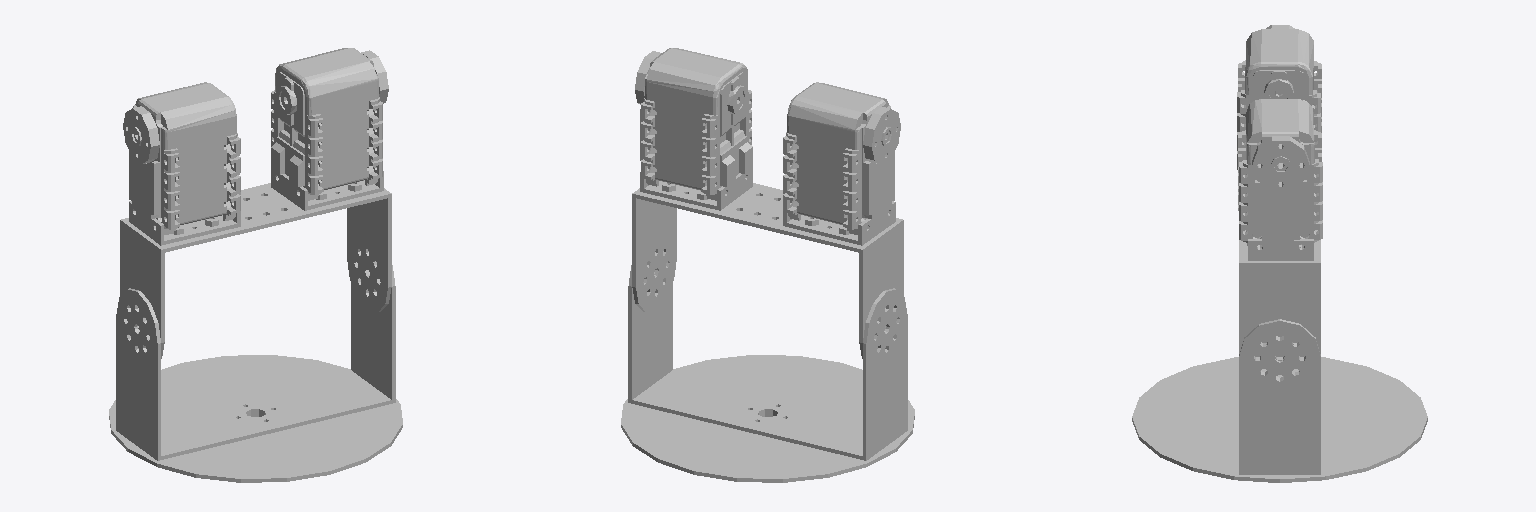
File: upperarm_link.obj
3 renders of one model, left to right at view 1: azimuth 30°, elevation 25°; view 2: azimuth 150°, elevation 25°; view 3: azimuth 270°, elevation 25°, orthographic.
Parts seen in each view (by area): view 1: 4, 3, 10, 9, 5, 7, 6; view 2: 4, 3, 10, 9, 5, 6, 7; view 3: 3, 4, 10, 9, 5, 7.
Part boxes in pixels (x1,y1,x2,y2): 4: (116,265,395,460); 3: (109,355,402,482); 10: (271,48,388,200); 9: (123,82,240,234); 5: (120,183,391,358); 7: (271,169,383,210); 6: (129,201,240,245); 4: (628,265,907,460); 3: (621,355,914,482); 10: (635,48,752,200); 9: (783,82,900,234); 5: (632,183,903,358); 6: (783,201,895,245); 7: (640,168,752,210); 3: (1132,357,1427,482); 4: (1239,319,1320,474); 10: (1238,99,1322,247); 9: (1237,25,1321,169); 5: (1239,230,1320,379); 7: (1247,239,1313,260).
Bounding box in the file's own units: 113 × 148 × 113.